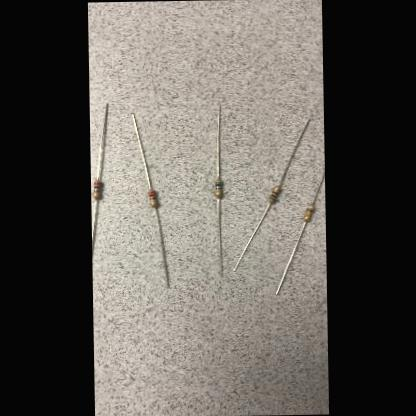resistor: (269, 185, 281, 203), (302, 204, 314, 221), (147, 189, 156, 207), (214, 180, 222, 196), (93, 180, 100, 198)
wire: (232, 203, 271, 271), (274, 221, 308, 294), (276, 118, 312, 185), (131, 113, 151, 188), (152, 207, 168, 287), (95, 103, 109, 179), (92, 200, 100, 256), (216, 105, 222, 179), (310, 172, 324, 202), (217, 198, 222, 276)
